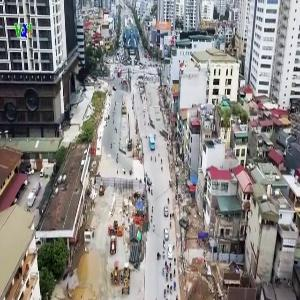drone: (63, 51, 114, 102)
